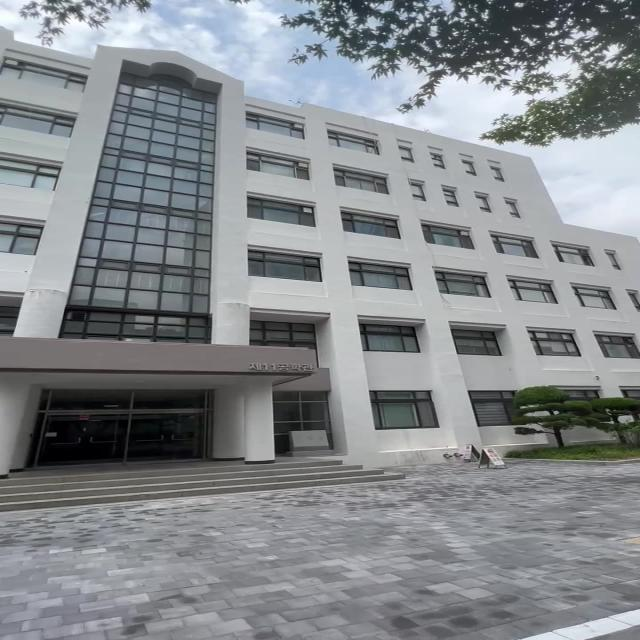building: (19, 49, 436, 462)
